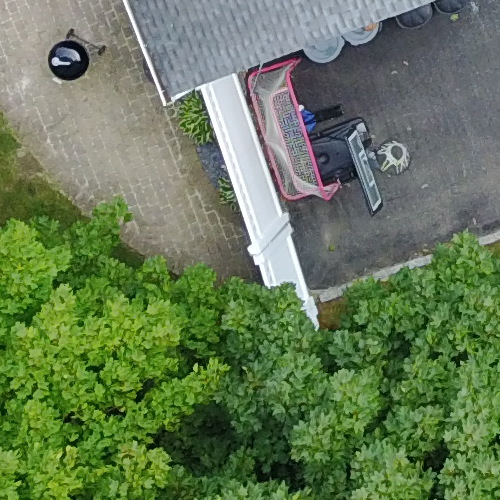basketball: (284, 91, 417, 225)
no larvae: (282, 89, 415, 223), (299, 33, 340, 62), (341, 16, 382, 45), (393, 2, 434, 31), (438, 1, 473, 20)
trash bin: (341, 18, 382, 47), (301, 35, 342, 64), (396, 1, 434, 31), (433, 1, 479, 18)
